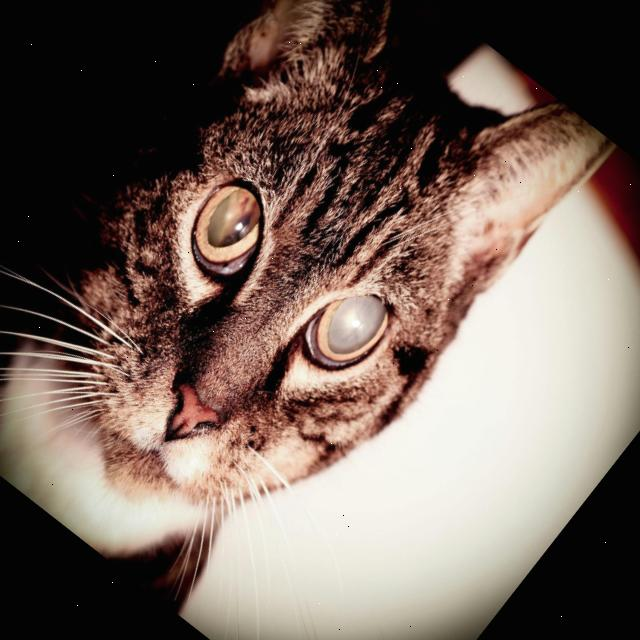cat-eye: (278, 258, 417, 402)
cat-eye-normal: (151, 147, 309, 310)
